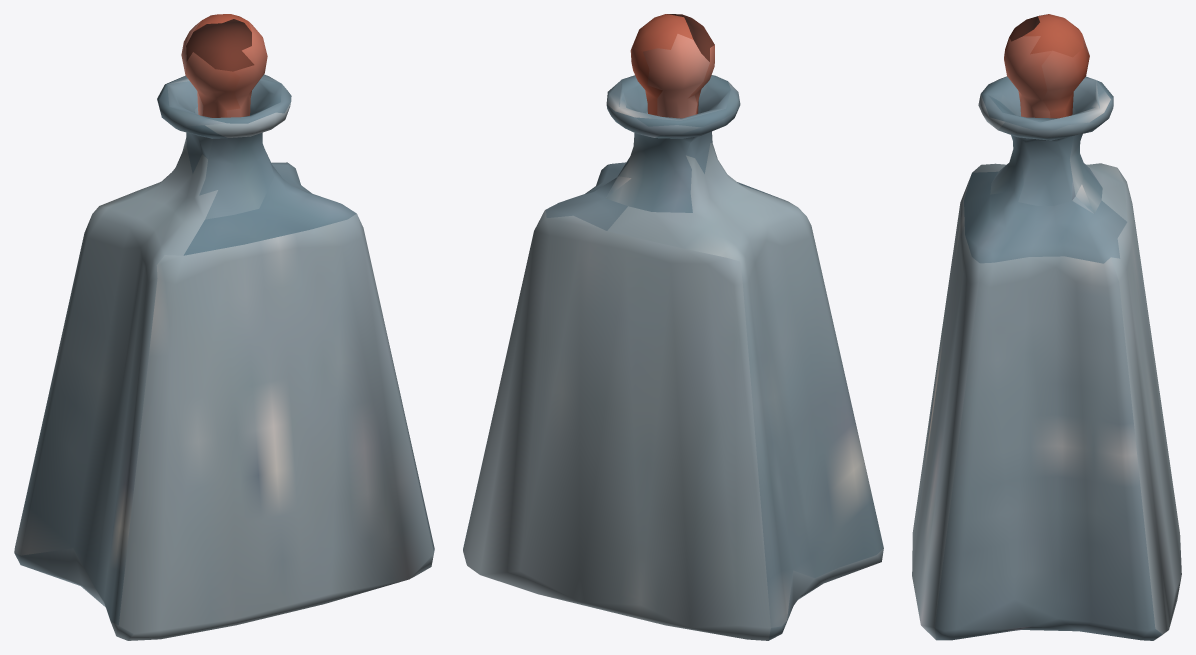
The model's file is bottle.fbx.
3 renders of one model, left to right at view 1: azimuth 30°, elevation 25°; view 2: azimuth 150°, elevation 25°; view 3: azimuth 270°, elevation 25°, orthographic.
Parts seen in each view (by area): view 1: Bottle_Tall, Bottle Plug Tall; view 2: Bottle_Tall, Bottle Plug Tall; view 3: Bottle_Tall, Bottle Plug Tall.
Part boxes in pixels (x1=…): Bottle_Tall: x1=14, y1=74, x2=434, y2=640; Bottle Plug Tall: x1=181, y1=14, x2=267, y2=117; Bottle_Tall: x1=463, y1=75, x2=883, y2=640; Bottle Plug Tall: x1=630, y1=14, x2=714, y2=118; Bottle_Tall: x1=912, y1=76, x2=1181, y2=640; Bottle Plug Tall: x1=1004, y1=14, x2=1089, y2=118.
Bounding box in the file's own units: 12.49 × 20.48 × 9.12.
Materials: 1 (1 with a texture image).
